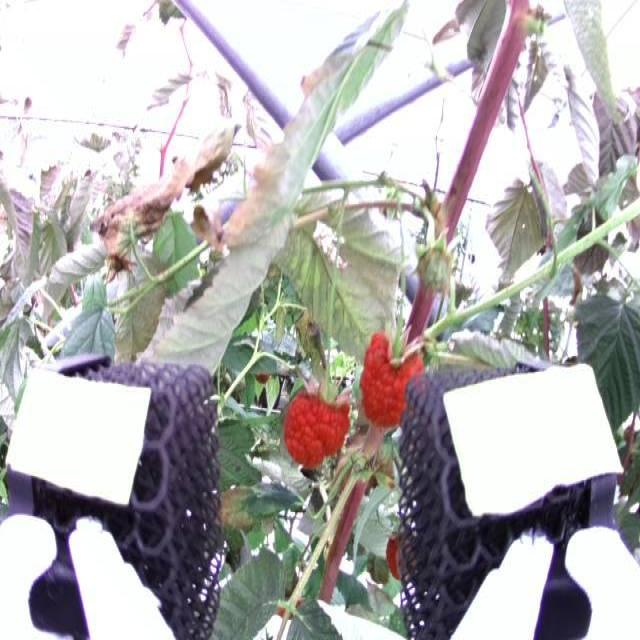Riped berries: (359, 326, 429, 432), (282, 378, 354, 470), (384, 532, 401, 582)
